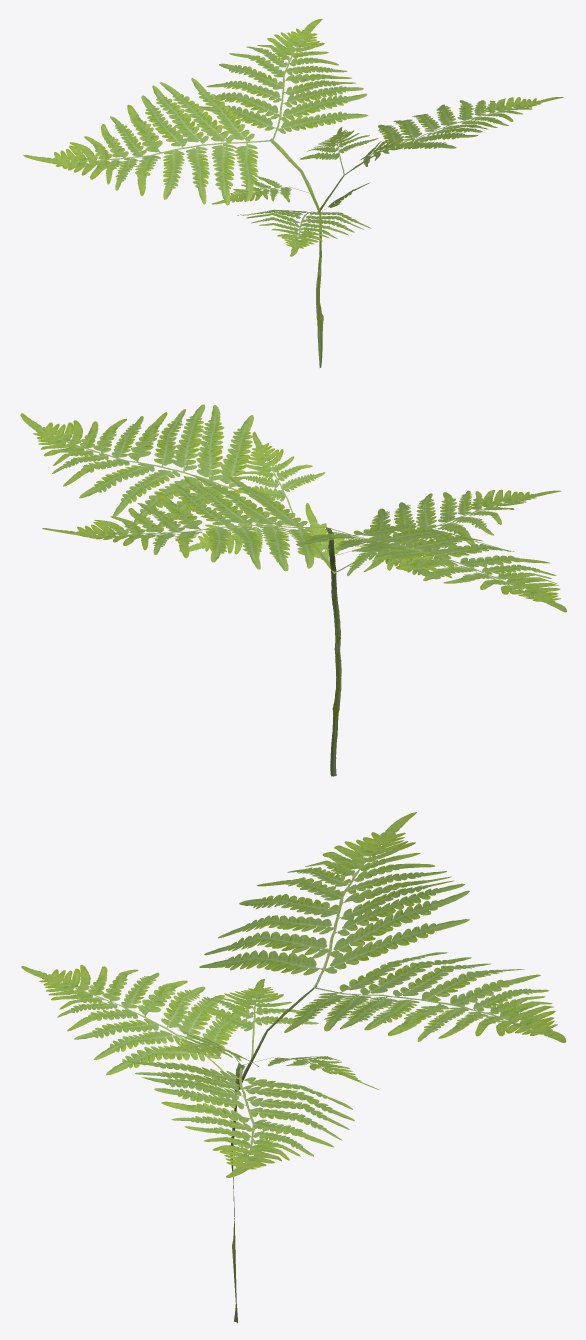
Rendered from FernB.fbx.
The picture shows the model from 3 angles, top to bottom: view 1: azimuth 30°, elevation 25°; view 2: azimuth 150°, elevation 25°; view 3: azimuth 270°, elevation 25°; orthographic projection. The views are drawn at different scales.
Parts seen in each view (by area): view 1: fernB; view 2: fernB; view 3: fernB.
Boxes of the visible parts, x1=… form: fernB: x1=23, y1=19, x2=563, y2=367; fernB: x1=20, y1=404, x2=566, y2=776; fernB: x1=21, y1=812, x2=566, y2=1322.
Bounding box in the file's own units: 16.74 × 8.17 × 11.03.
